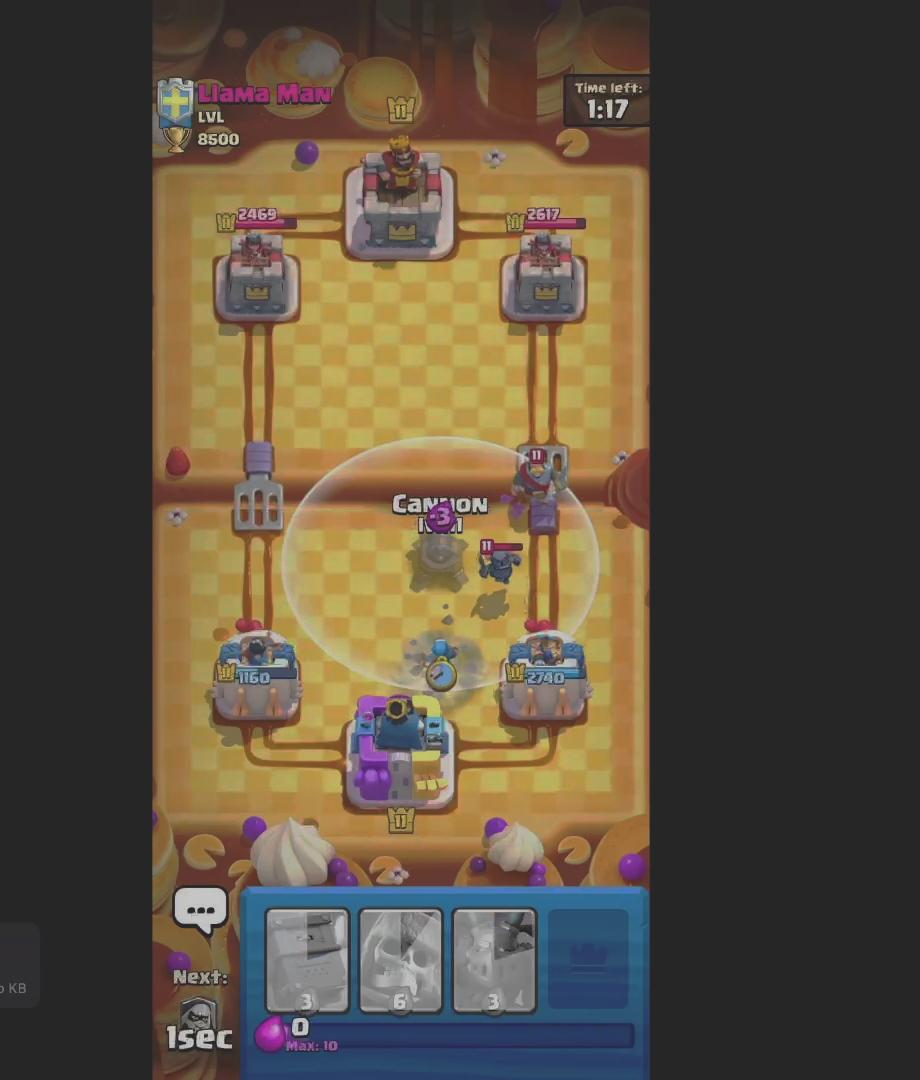Knight: (503, 439, 571, 514)
Mini Pekka: (480, 534, 529, 593)
